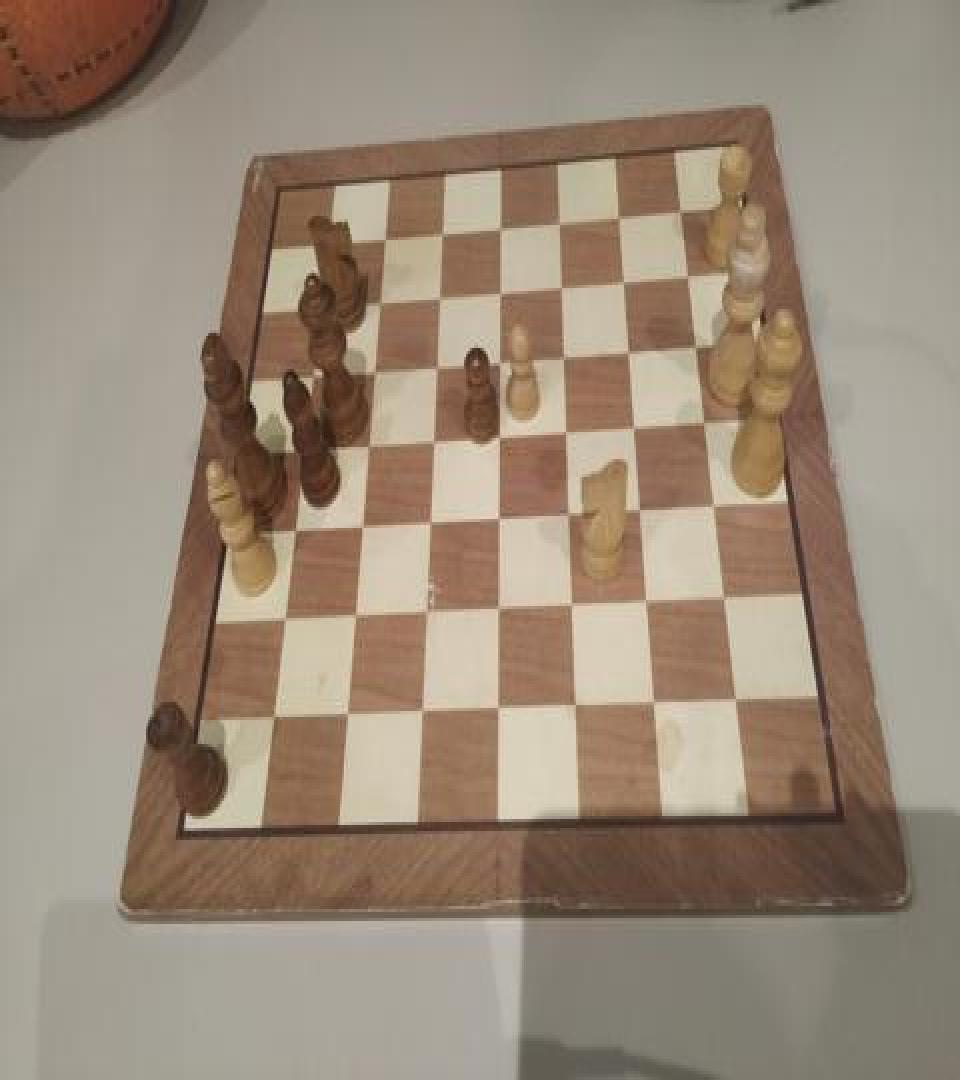xcorner: (262, 711, 282, 741), (336, 708, 356, 738), (411, 705, 431, 735), (488, 700, 508, 730), (646, 694, 666, 724), (728, 692, 748, 722), (273, 612, 293, 642), (415, 604, 435, 634), (489, 600, 509, 630), (639, 591, 659, 621), (717, 588, 737, 618), (283, 522, 303, 552), (351, 518, 371, 548), (419, 513, 439, 543), (489, 507, 509, 537), (560, 502, 580, 532), (633, 498, 653, 528), (707, 494, 727, 524), (293, 440, 313, 470), (357, 434, 377, 464), (423, 429, 443, 459), (490, 423, 510, 453), (558, 418, 578, 448), (627, 412, 647, 442), (698, 408, 718, 438), (301, 363, 321, 393), (363, 357, 383, 387), (426, 352, 446, 382), (490, 346, 510, 376), (556, 340, 576, 370), (622, 334, 642, 364), (689, 330, 709, 360), (309, 292, 329, 322), (369, 288, 389, 318), (429, 282, 449, 312), (491, 276, 511, 306), (553, 270, 573, 300), (617, 264, 637, 294), (682, 258, 702, 288), (317, 228, 337, 258), (374, 222, 394, 252), (432, 216, 452, 246), (491, 210, 511, 240), (552, 204, 572, 234), (613, 198, 633, 228), (675, 190, 695, 220), (566, 698, 586, 727), (344, 608, 364, 637), (563, 596, 583, 625)
